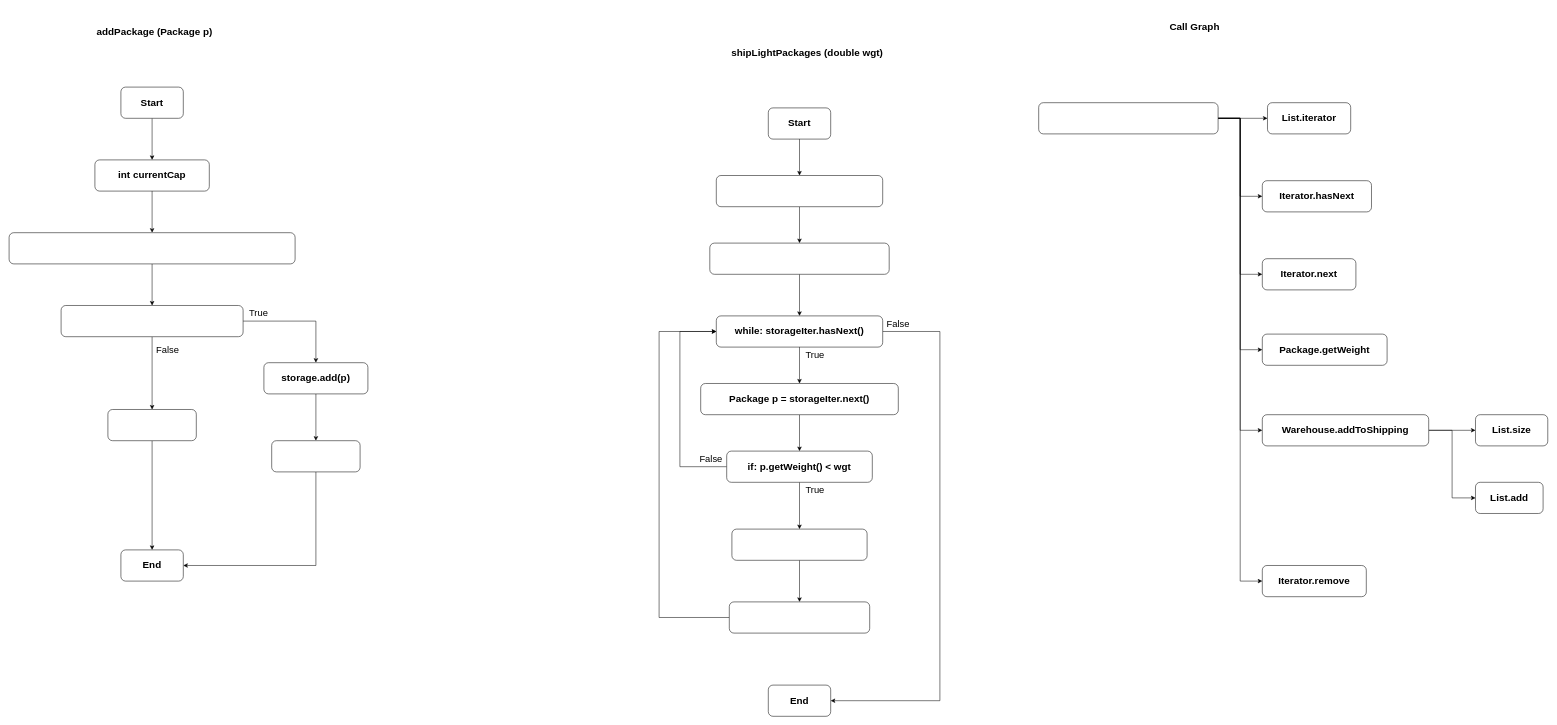
Image size: 1557x725. Some labels were removed from this diagram. The box of each missing label's shape, as (x1, y1, x2, y2) in pixels:
addToShipping(p): (731, 529, 867, 560)
currentCap = storage.size() + shippingPackages.size(): (9, 232, 295, 264)
if: currentCap < MAX_CAPACITY: (61, 305, 243, 337)
Iterator<Package> storageIter: (716, 175, 883, 207)
return false: (107, 409, 196, 441)
return true: (271, 440, 360, 472)
storageIter = storage.iterator(): (709, 243, 889, 274)
storageIter.remove(): (729, 601, 870, 633)
Warehouse.shipLightPackages: (1038, 102, 1218, 134)
